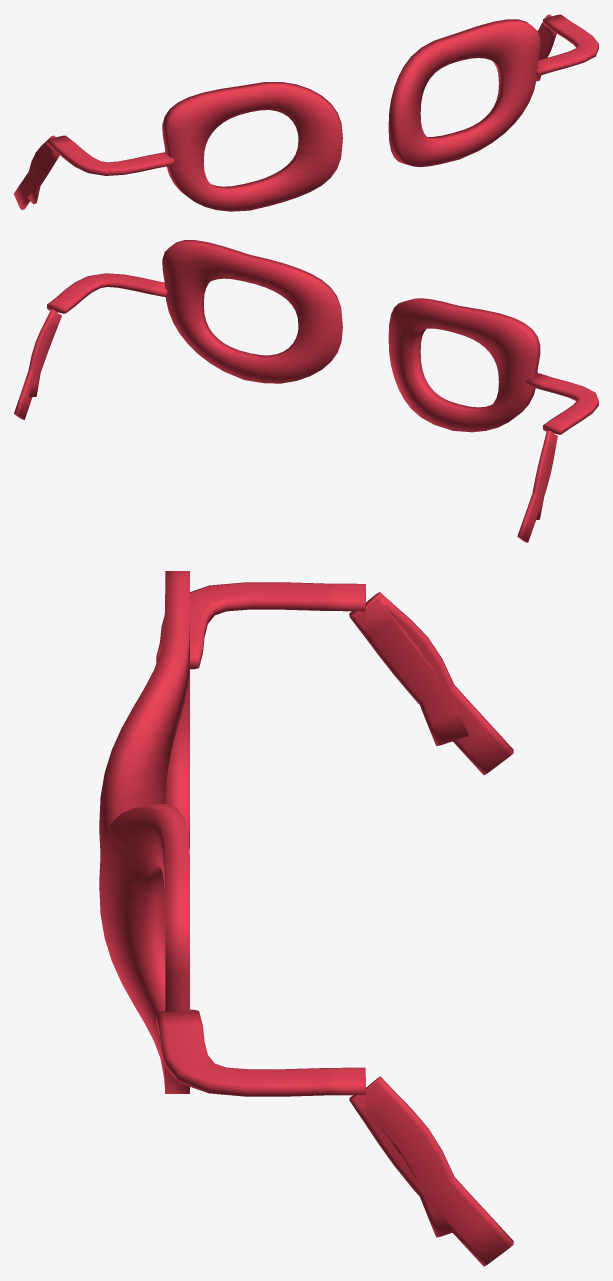
Rendered from hero_mask-dog.glb.
3 renders of one model, top to bottom at view 1: azimuth 30°, elevation 25°; view 2: azimuth 150°, elevation 25°; view 3: azimuth 270°, elevation 25°, orthographic. The views are drawn at different scales.
Visible parts, largest first — view 1: mask.001, mask, tie.001, tie, tail.003, tail.002, tail.001; view 2: mask, mask.001, tie, tie.001, tail.001, tail.002, tail.003, tail; view 3: mask, mask.001, tie, tail.003, tie.001, tail, tail.001, tail.002.
Boxes of the visible parts, x1,y1,x2,y2 form: mask.001: [162, 82, 342, 211]; mask: [388, 19, 540, 167]; tie.001: [47, 135, 174, 175]; tie: [536, 14, 598, 75]; tail.003: [14, 150, 59, 209]; tail.002: [28, 135, 55, 203]; tail.001: [538, 16, 556, 60]; mask: [162, 240, 342, 383]; mask.001: [388, 298, 540, 432]; tie: [47, 273, 167, 313]; tie.001: [526, 373, 598, 434]; tail.001: [14, 312, 61, 419]; tail.002: [532, 430, 555, 519]; tail.003: [517, 434, 557, 542]; tail: [28, 309, 61, 397]; mask: [99, 803, 189, 1093]; mask.001: [99, 571, 189, 854]; tie: [156, 1009, 365, 1096]; tail.003: [349, 598, 513, 775]; tie.001: [156, 582, 365, 669]; tail: [365, 1076, 455, 1237]; tail.001: [349, 1095, 513, 1266]; tail.002: [352, 592, 468, 745].
Bounding box in the file's own units: 1.35 × 0.3604 × 0.4673.
